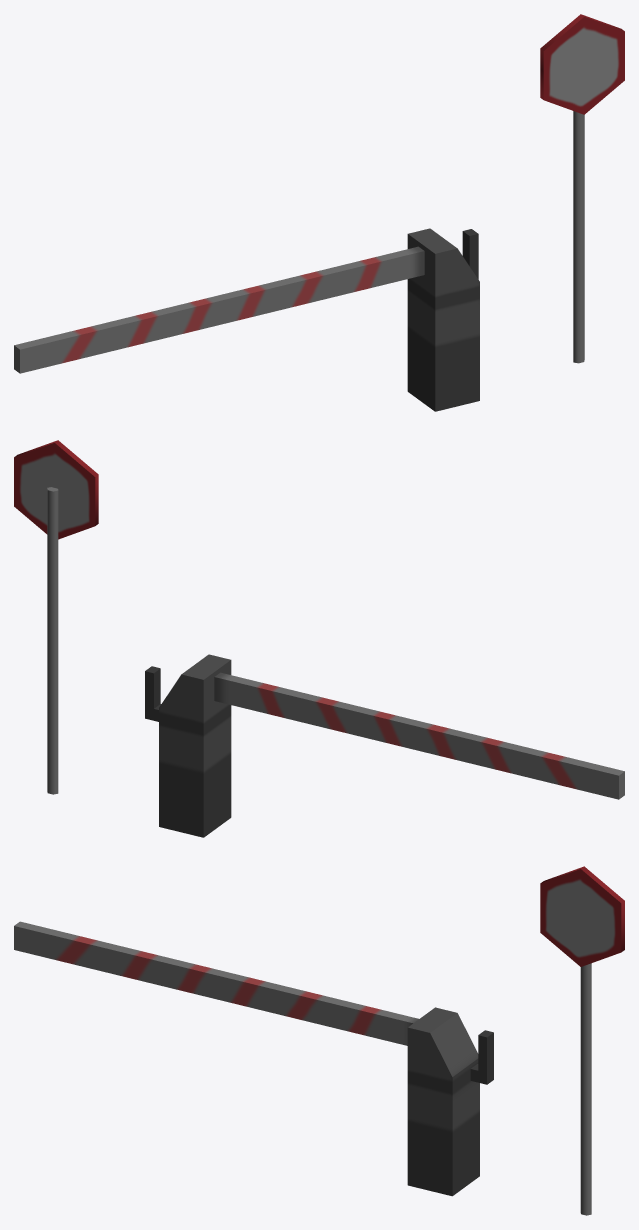
The model's file is Signs.fbx.
3 views of the same model, one above another, from view 1: azimuth 30°, elevation 25°; view 2: azimuth 150°, elevation 25°; view 3: azimuth 330°, elevation 25° (orthographic).
Visible parts, largest first — view 1: Sin2, Sign1, Sign3; view 2: Sin2, Sign1, Sign3; view 3: Sign1, Sin2, Sign3.
Boxes of the visible parts, x1=… form: Sin2: x1=14, y1=246, x2=424, y2=373; Sign1: x1=407, y1=228, x2=479, y2=411; Sign3: x1=540, y1=14, x2=624, y2=363; Sin2: x1=214, y1=672, x2=624, y2=799; Sign1: x1=145, y1=654, x2=231, y2=837; Sign3: x1=14, y1=440, x2=98, y2=794; Sign1: x1=407, y1=1007, x2=493, y2=1196; Sin2: x1=14, y1=921, x2=418, y2=1045; Sign3: x1=540, y1=866, x2=624, y2=1215.
Bounding box in the file's own units: 467 × 256 × 36.61.
Materials: 1 (1 with a texture image).
